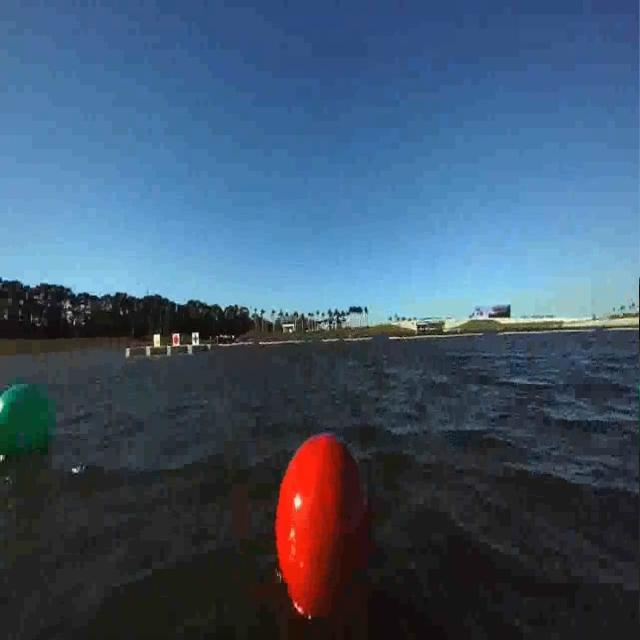green-buoy: (0, 374, 61, 468)
red-buoy: (270, 429, 381, 622)
